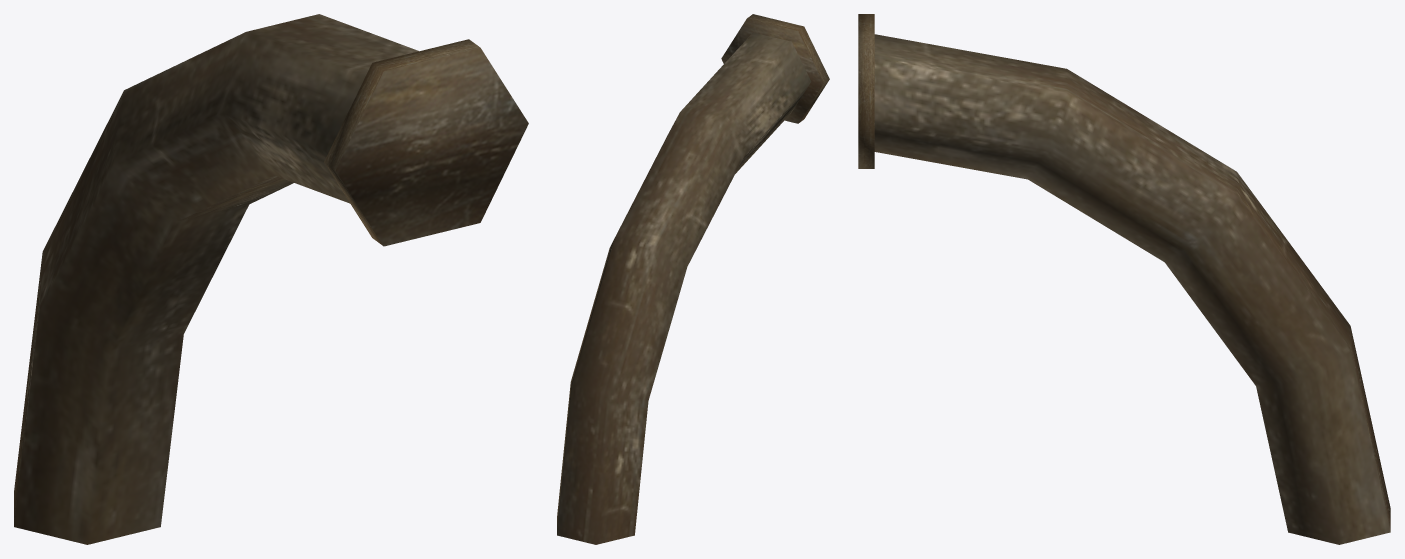
File: small_brown_8_elbow.fbx
3 views of the same model, side by side, from view 1: azimuth 30°, elevation 25°; view 2: azimuth 150°, elevation 25°; view 3: azimuth 270°, elevation 25° (orthographic). The views are drawn at different scales.
Visible parts, largest first — view 1: polySurface658; view 2: polySurface658; view 3: polySurface658.
Part boxes in pixels (x1,y1,x2,y2): polySurface658: [14, 14, 528, 544]; polySurface658: [557, 14, 829, 544]; polySurface658: [858, 14, 1390, 544].
Size of the model in its own units: 0.3294 by 1.14 by 1.13.
